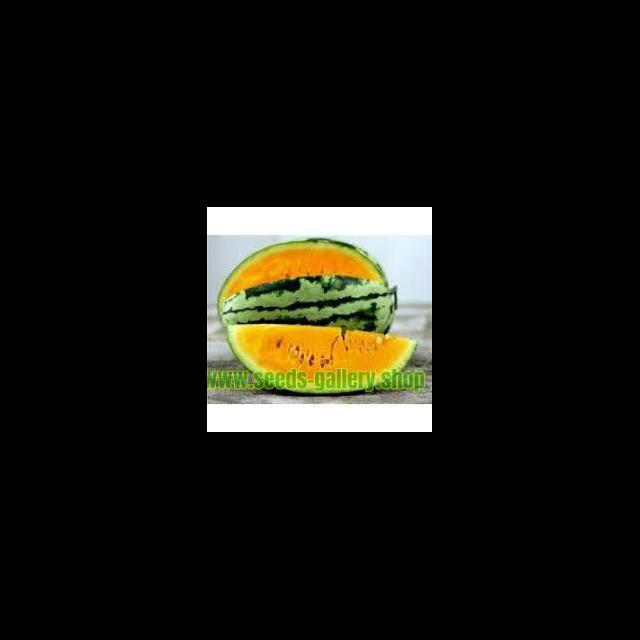watermelon: (218, 238, 396, 335), (226, 326, 419, 394)
